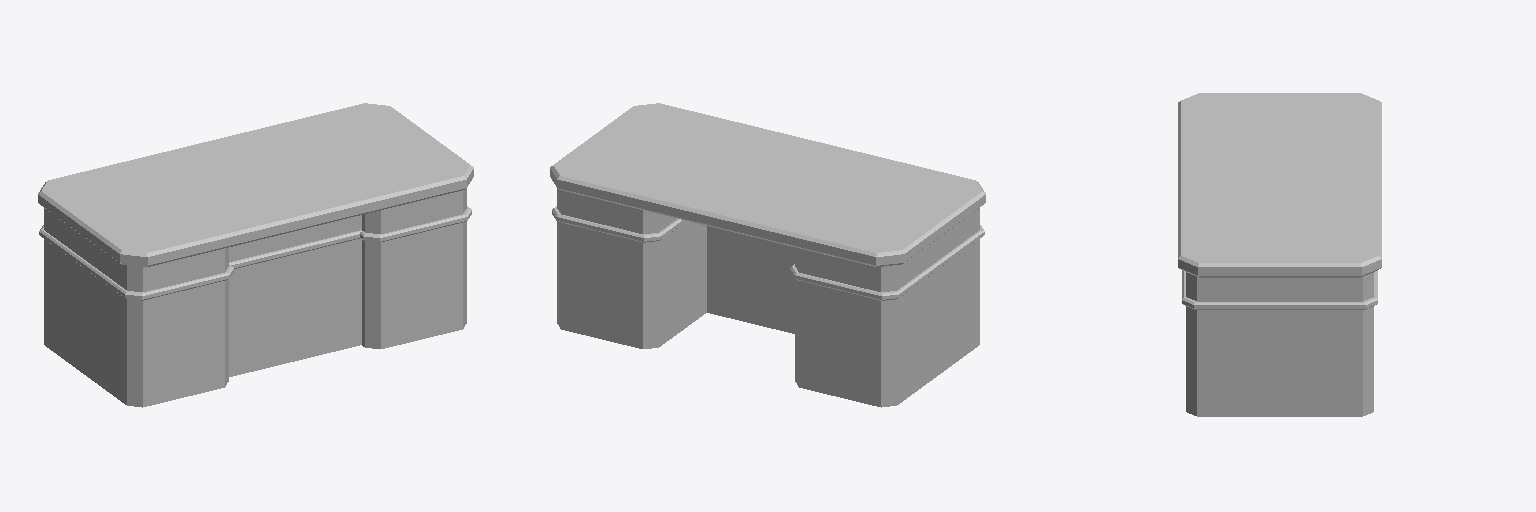
The model's file is desk.obj.
The picture shows the model from 3 angles: view 1: azimuth 30°, elevation 25°; view 2: azimuth 150°, elevation 25°; view 3: azimuth 270°, elevation 25°; orthographic projection.
Parts seen in each view (by area): view 1: desk:pCube7; view 2: desk:pCube7; view 3: desk:pCube7.
Boxes of the visible parts, x1,y1,x2,y2 form: desk:pCube7: [38, 103, 473, 407]; desk:pCube7: [550, 103, 985, 407]; desk:pCube7: [1178, 93, 1381, 416].
Bounding box in the file's own units: 13 × 5.46 × 6.5.